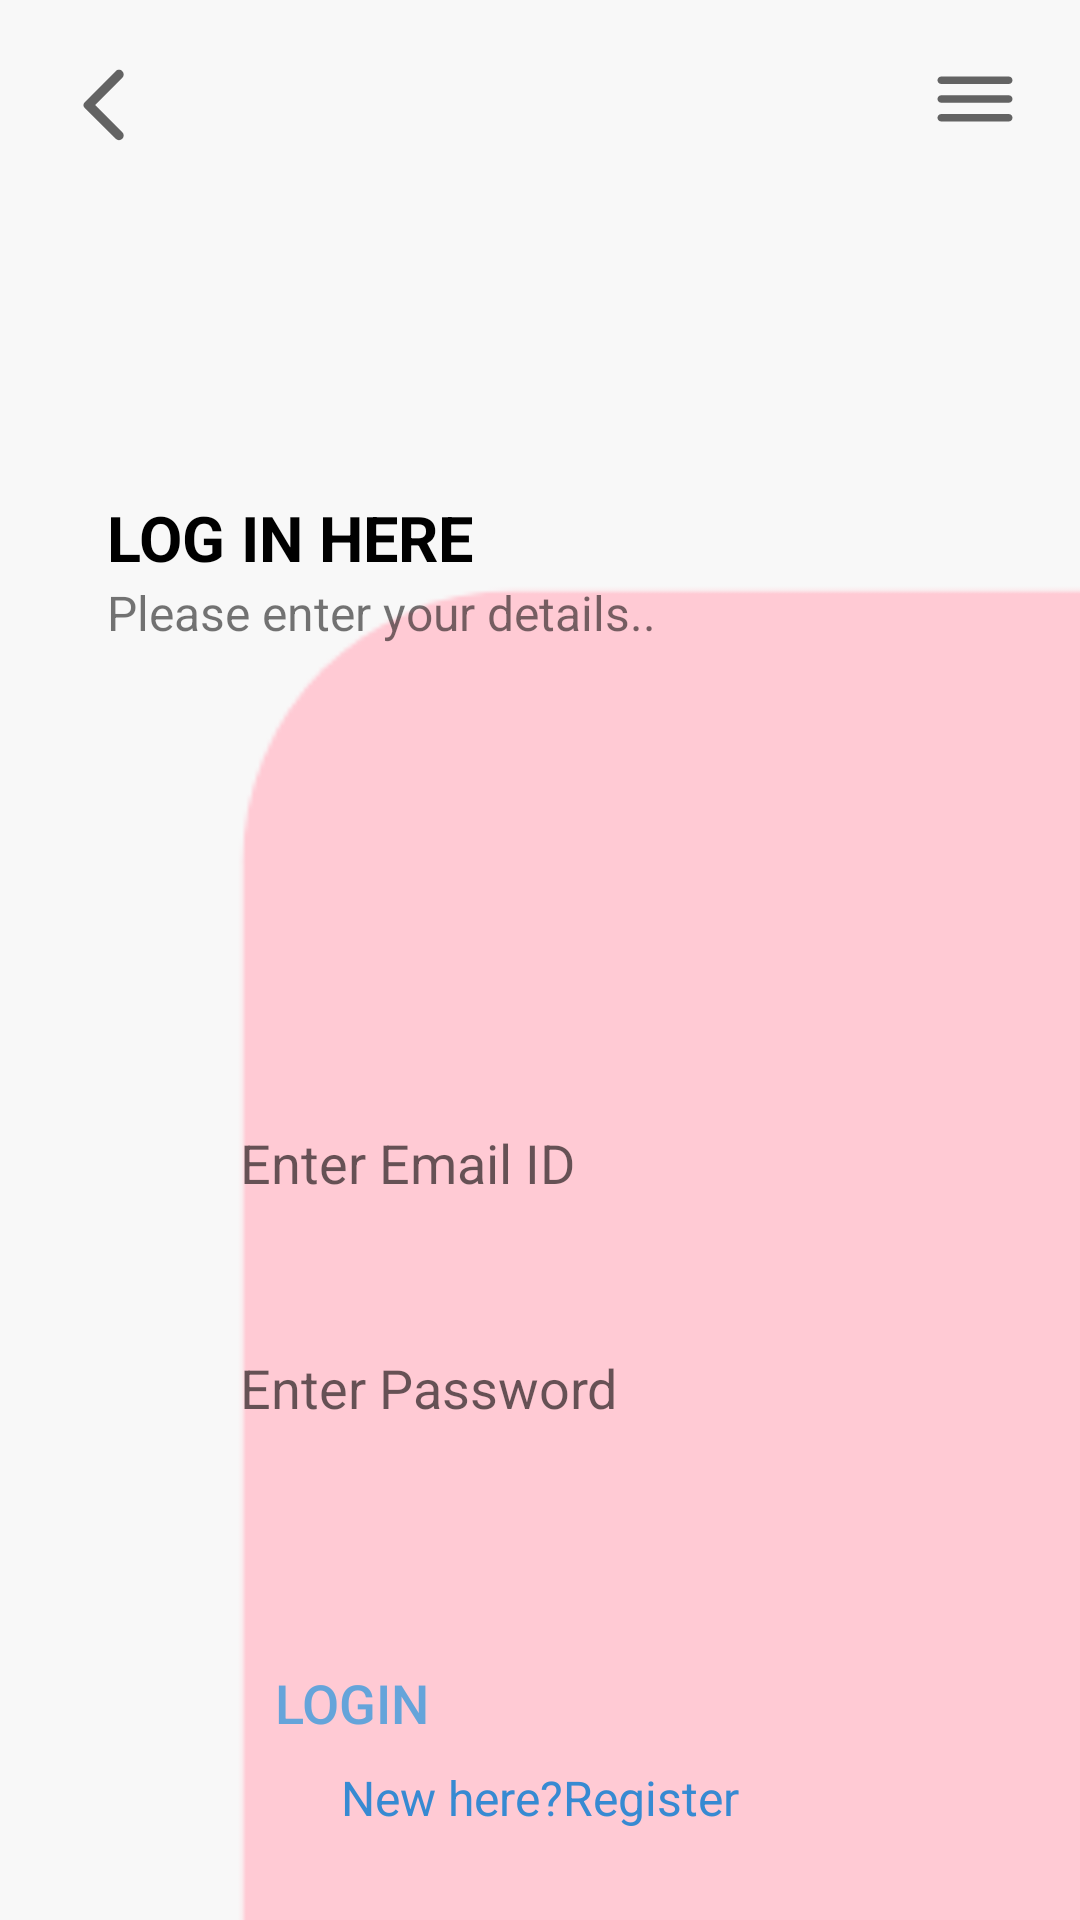

Screen size 1080 x 1920. Icon name, then its box in pixels as (x1, y1, x2, y2):
back: (83, 69, 124, 140)
hamberger: (937, 76, 1013, 122)
